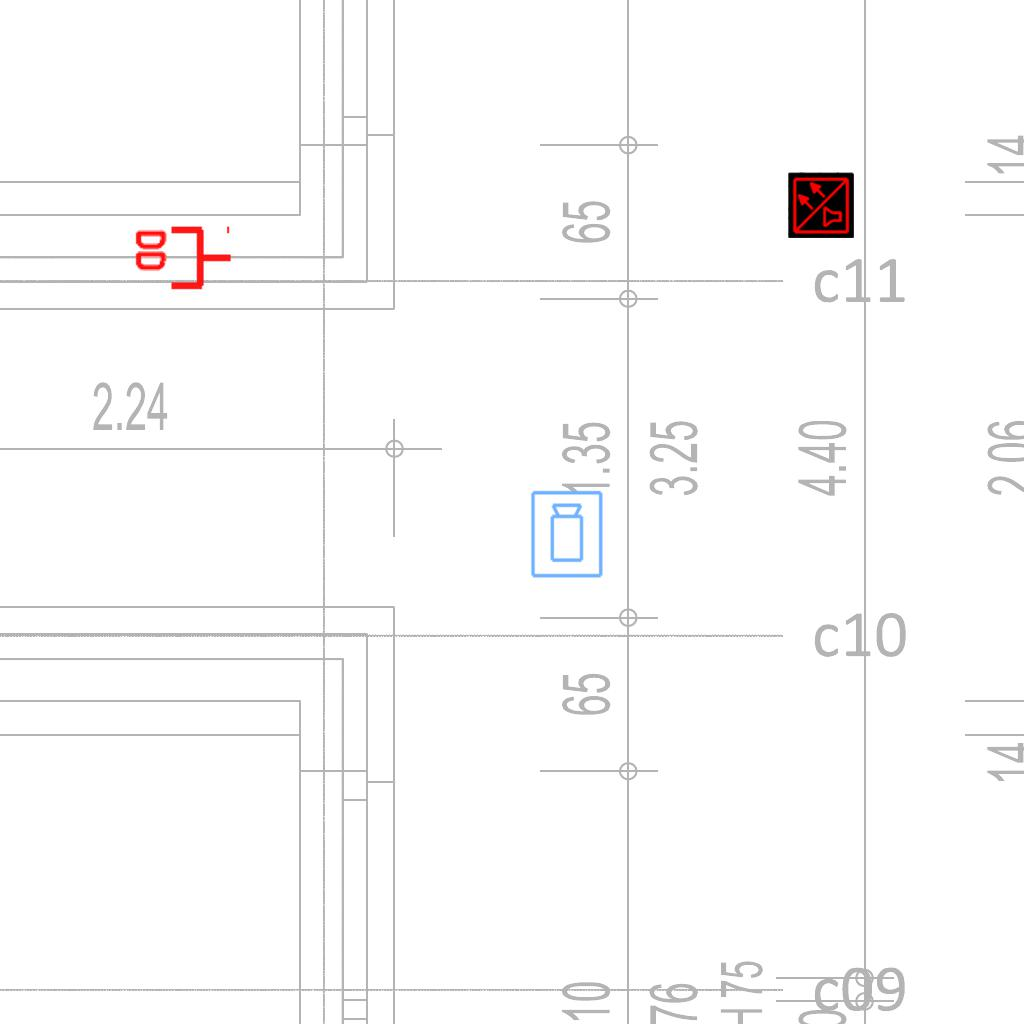Datenanschluss_zweifach: (131, 225, 234, 294)
KFO_Kamera_mit_Festobjektiv: (529, 489, 606, 580)
OKW_Multisensormelder_(Kombination_optischer_Rauch-Kahlenmonoxid_Waerme-Melder): (788, 172, 854, 238)
